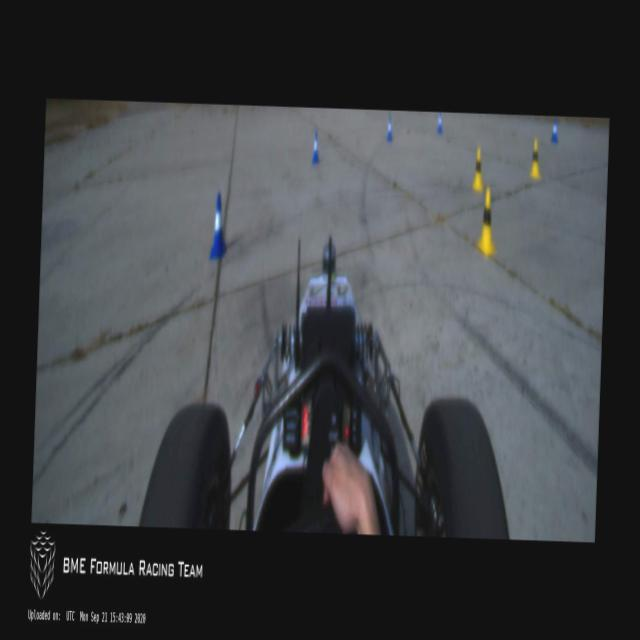blue_cone: (208, 192, 228, 260), (312, 130, 320, 164), (551, 119, 558, 142), (386, 116, 392, 141), (437, 112, 442, 134)
yellow_cone: (475, 185, 498, 258), (472, 146, 486, 191), (530, 138, 542, 178)
